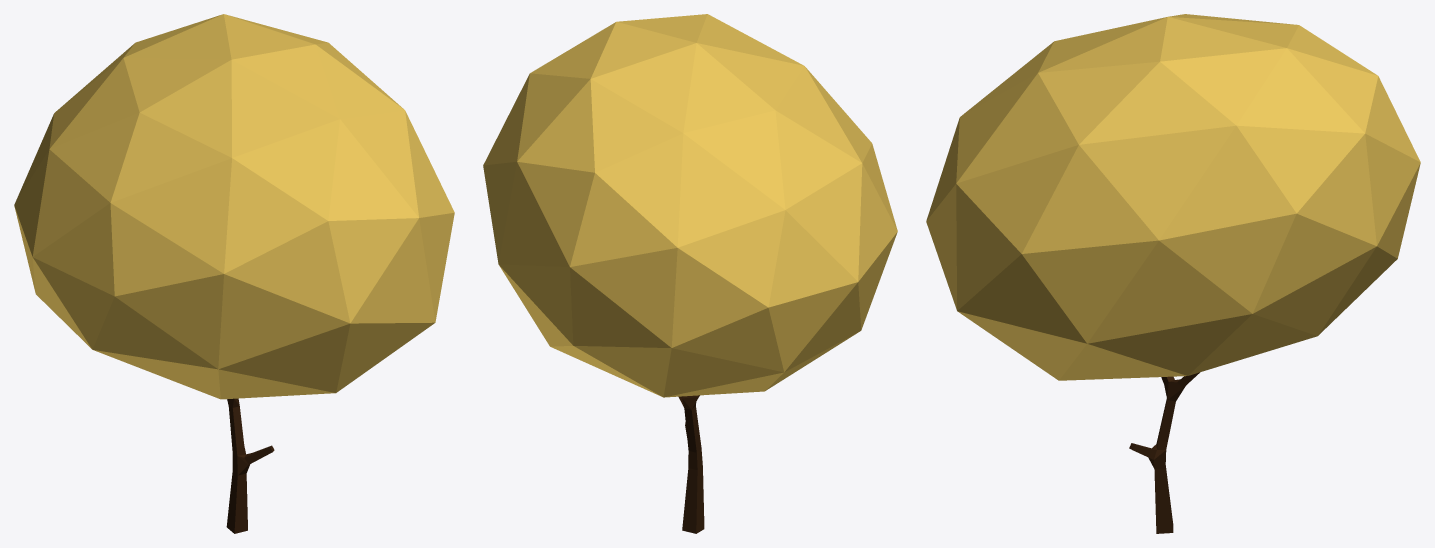
File: tree dem.fbx
3 renders of one model, left to right at view 1: azimuth 30°, elevation 25°; view 2: azimuth 150°, elevation 25°; view 3: azimuth 270°, elevation 25°, orthographic. The views are drawn at different scales.
Parts seen in each view (by area): view 1: tree demo; view 2: tree demo; view 3: tree demo.
Boxes of the visible parts, left/top/right/bottom form: tree demo: left=14, top=14, right=454, bottom=533; tree demo: left=483, top=14, right=897, bottom=533; tree demo: left=926, top=14, right=1420, bottom=533.
Size of the model in its own units: 2372 by 3028 by 2656.
